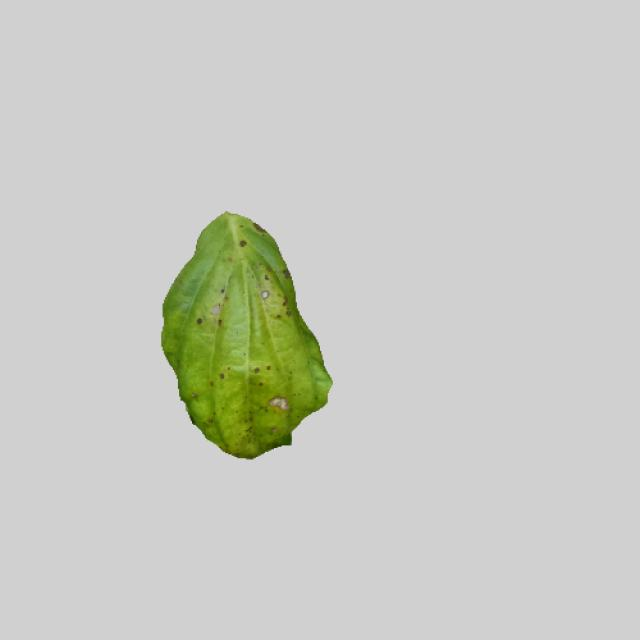yellow-mottle-virus: (154, 206, 336, 457)
